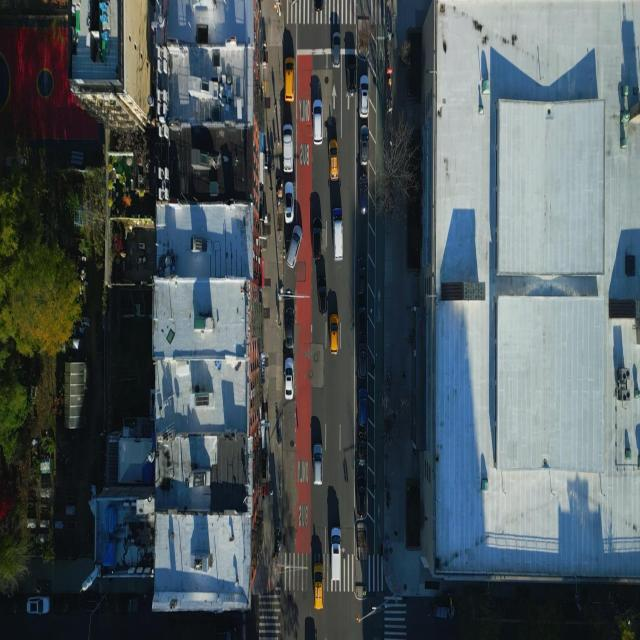Car: (286, 226, 302, 268), (355, 472, 367, 518), (328, 138, 340, 182), (312, 99, 323, 146), (284, 307, 296, 350), (312, 443, 324, 484), (284, 57, 295, 101), (328, 312, 339, 356), (314, 562, 324, 610), (26, 596, 50, 616), (312, 217, 323, 260), (359, 74, 369, 119), (284, 180, 294, 224), (316, 276, 327, 316), (346, 54, 357, 94), (284, 357, 294, 400), (358, 174, 368, 217), (360, 125, 370, 167), (357, 256, 367, 298), (433, 602, 455, 620), (358, 388, 368, 427), (358, 342, 368, 381), (357, 299, 367, 338), (331, 31, 341, 68), (358, 431, 368, 466), (314, 0, 324, 12)
Van: (332, 207, 344, 262), (282, 122, 294, 172), (331, 526, 341, 582)
